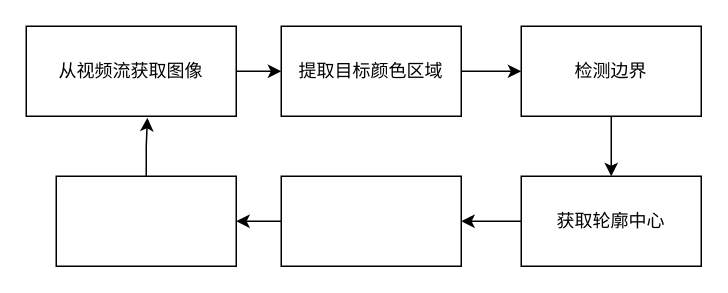
The diagram is 728 pixels wide and 293 high, and some of its shapes have lost their labels. Each missing label, with the centre of its shape:
判断中心偏移: [370,220]
控制舵机: [145,220]
